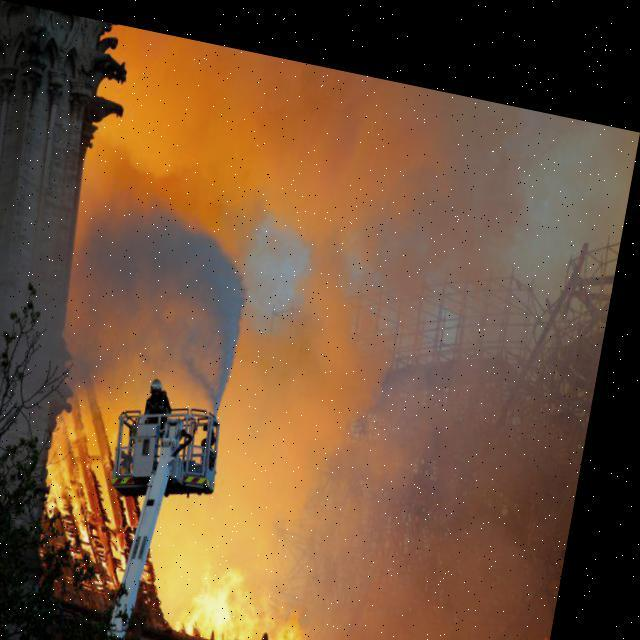Fire: (158, 508, 415, 639)
